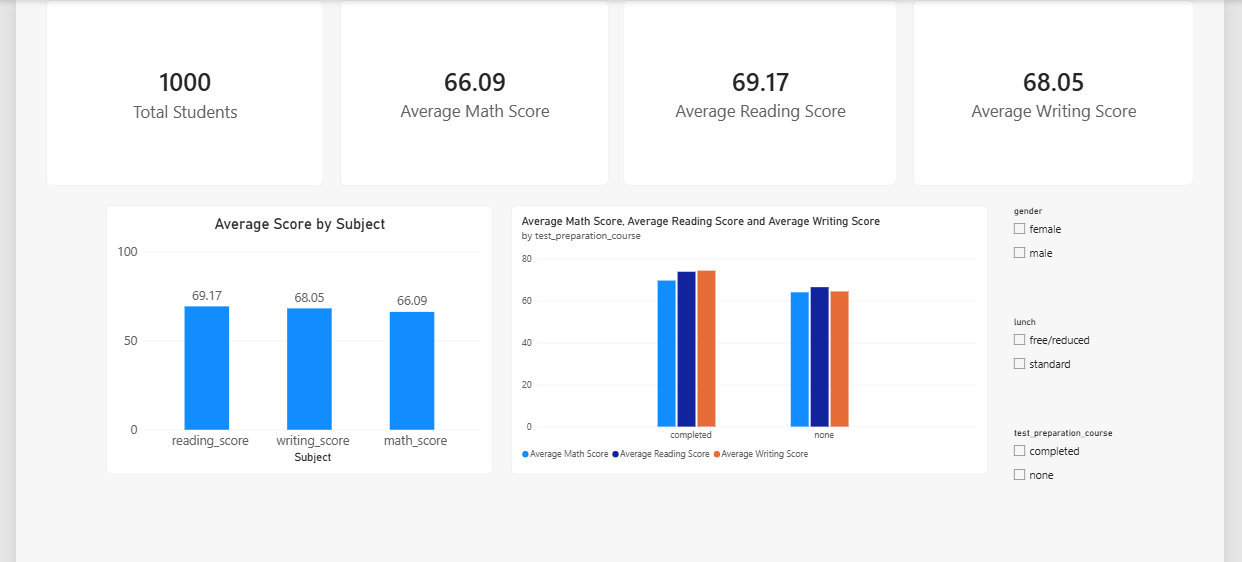

The dashboard page shown, as its layout file describes it:
{"tool":"powerbi","page":{"name":"Performance Overview","canvas":[1920,1080],"ordinal":0},"visuals":[{"type":"cardVisual","fields":{"Data":["student_performance.Total Students"]},"box":[47.7,0,441.4,295.9],"z":0},{"type":"cardVisual","fields":{"Data":["student_performance.Average Math Score"]},"box":[514.6,0,427.1,295.9],"z":1000},{"type":"cardVisual","fields":{"Data":["student_performance.Average Reading Score"]},"box":[967.1,0,434.2,295.9],"z":2000},{"type":"cardVisual","fields":{"Data":["student_performance.Average Writing Score"]},"box":[1426.8,0,446.2,295.9],"z":3000},{"type":"clusteredColumnChart","title":"Average Score by Subject","fields":{"Category":["StudentScores.Subject"],"Y":["Avg(StudentScores.Score)"]},"box":[143.2,326.9,615.6,427.1],"z":4000},{"type":"clusteredColumnChart","fields":{"Category":["student_performance.test_preparation_course"],"Y":["student_performance.Average Math Score","student_performance.Average Reading Score","student_performance.Average Writing Score"]},"box":[787.4,326.9,758.7,427.1],"z":5000},{"type":"slicer","fields":{"Values":["student_performance.gender"]},"box":[1579.5,326.9,293.5,147.9],"z":6000},{"type":"slicer","fields":{"Values":["student_performance.lunch"]},"box":[1579.5,503.4,293.5,147.9],"z":7000},{"type":"slicer","fields":{"Values":["student_performance.test_preparation_course"]},"box":[1579.5,680,293.5,147.9],"z":8000}]}

Visuals, with their boxes on the page's 1920x1080 design canvas (x1, y1, x2, y2). These are canvas units, not pixel positions in the 1242x562 screenshot, which may show the page scaled, cropped or inside an application window:
cardVisual - student_performance.Total Students: [x1=48, y1=0, x2=489, y2=296]
cardVisual - student_performance.Average Math Score: [x1=515, y1=0, x2=942, y2=296]
cardVisual - student_performance.Average Reading Score: [x1=967, y1=0, x2=1401, y2=296]
cardVisual - student_performance.Average Writing Score: [x1=1427, y1=0, x2=1873, y2=296]
"Average Score by Subject" clusteredColumnChart: [x1=143, y1=327, x2=759, y2=754]
clusteredColumnChart - student_performance.test_preparation_course x student_performance.Average Math Score: [x1=787, y1=327, x2=1546, y2=754]
slicer - student_performance.gender: [x1=1580, y1=327, x2=1873, y2=475]
slicer - student_performance.lunch: [x1=1580, y1=503, x2=1873, y2=651]
slicer - student_performance.test_preparation_course: [x1=1580, y1=680, x2=1873, y2=828]
